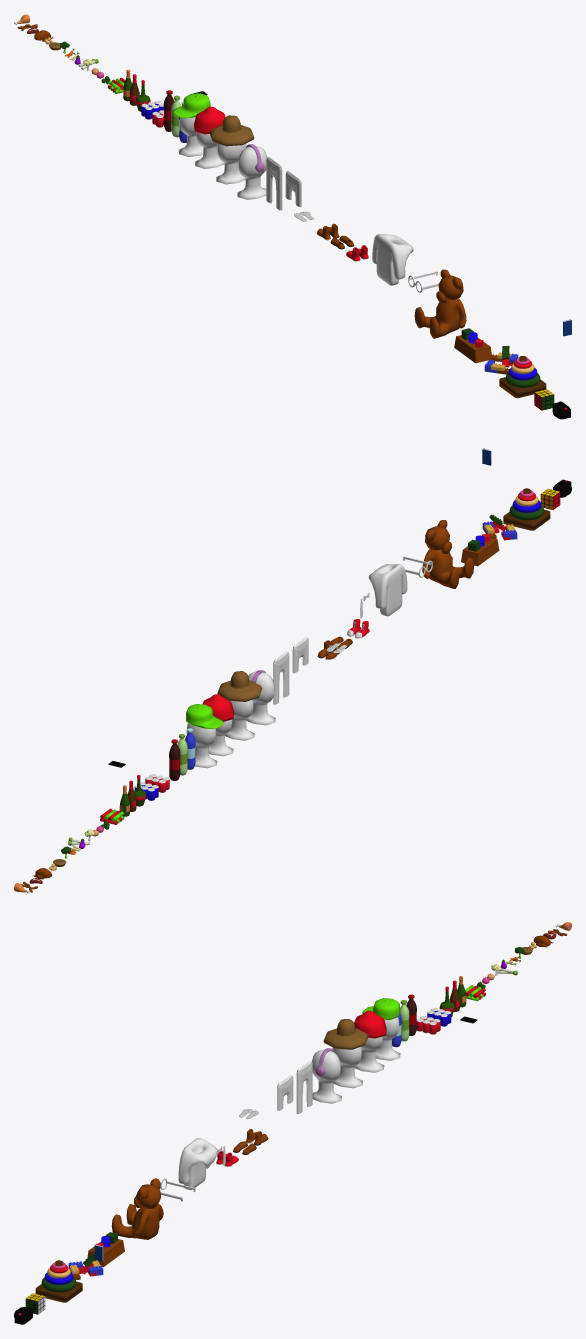
Rendered from Items Export 1.fbx.
3 views of the same model, one above another, from view 1: azimuth 30°, elevation 25°; view 2: azimuth 150°, elevation 25°; view 3: azimuth 330°, elevation 25° (orthographic).
Parts seen in each view (by area): view 1: Cube.031, Cube.026, Cube.029, Cube.021, Cube.019, Cube.027, Cube.020, Cube.022, Cube.017, Cube.015, Cube.018, Cube.016 (+1 smaller); view 2: Cube.031, Cube.026, Cube.029, Cube.021, Cube.019, Cube.016, Cube.027, Cube.020, Cube.015, Cube.022; view 3: Cube.031, Cube.026, Cube.029, Cube.021, Cube.019, Cube.020, Cube.022, Cube.017, Cube.018, Cube.027, Cube.016, Cube.028 (+1 smaller).
Part boxes in pixels (x1,y1,x2,y2): Cube.031: (414,269,466,338); Cube.026: (372,234,413,285); Cube.029: (499,356,546,398); Cube.021: (237,146,266,199); Cube.019: (209,115,254,146); Cube.027: (454,328,491,363); Cube.020: (216,143,246,184); Cube.022: (266,157,282,210); Cube.017: (195,132,224,168); Cube.015: (173,93,210,118); Cube.018: (193,106,225,134); Cube.016: (178,117,203,156); Cube.031: (422,520,474,588); Cube.026: (368,564,407,616); Cube.029: (503,488,550,530); Cube.021: (246,671,275,725); Cube.019: (217,671,262,701); Cube.016: (186,723,217,768); Cube.027: (461,533,499,566); Cube.020: (225,699,254,740); Cube.015: (186,704,223,728); Cube.022: (273,651,289,704); Cube.031: (111,1178,163,1239); Cube.026: (178,1137,217,1190); Cube.029: (35,1260,82,1302); Cube.021: (312,1049,341,1103); Cube.019: (323,1019,368,1049); Cube.020: (332,1047,362,1088); Cube.022: (296,1060,312,1114); Cube.017: (354,1036,384,1072); Cube.018: (354,1010,386,1038); Cube.027: (87,1232,124,1267); Cube.016: (375,1017,400,1060); Cube.028: (68,1253,103,1279).
Size of the model in its own units: 1816 by 1616 by 24219.
